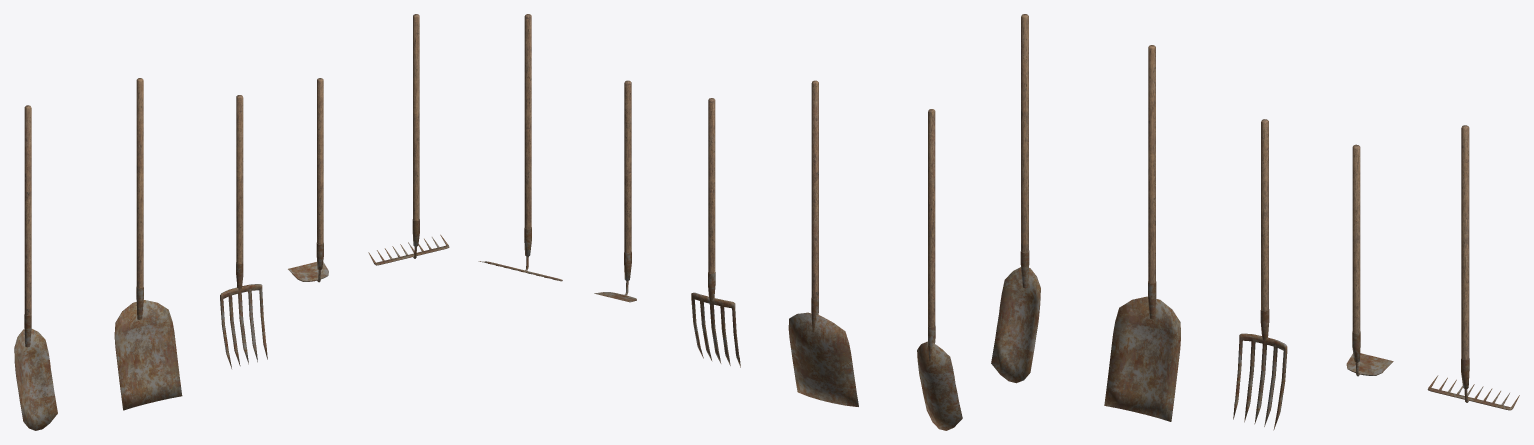
The model's file is farm_tools.glb.
The picture shows the model from 3 angles, left to right: view 1: azimuth 30°, elevation 25°; view 2: azimuth 150°, elevation 25°; view 3: azimuth 330°, elevation 25°; orthographic projection. The views are drawn at different scales.
Visible parts, largest first — view 1: Cube_0, Cube.002_1, Cube.003_2, Cube.004_4, Cube.001_3; view 2: Cube_0, Cube.002_1, Cube.003_2, Cube.004_4, Cube.001_3; view 3: Cube_0, Cube.002_1, Cube.003_2, Cube.004_4, Cube.001_3.
Boxes of the visible parts, x1,y1,x2,y2 form: Cube_0: (114,78,182,410); Cube.002_1: (14,105,57,430); Cube.003_2: (220,95,267,368); Cube.004_4: (368,14,449,265); Cube.001_3: (288,78,328,282); Cube_0: (788,80,858,406); Cube.002_1: (917,109,962,430); Cube.003_2: (691,98,740,367); Cube.004_4: (478,14,562,281); Cube.001_3: (594,80,636,302); Cube_0: (1104,45,1180,421); Cube.002_1: (991,14,1040,383); Cube.003_2: (1233,119,1287,430); Cube.004_4: (1427,125,1519,410); Cube.001_3: (1346,144,1393,376).
Bounding box in the file's own units: 15.05 × 10.26 × 1.65.
Materials: 1 (1 with a texture image).
